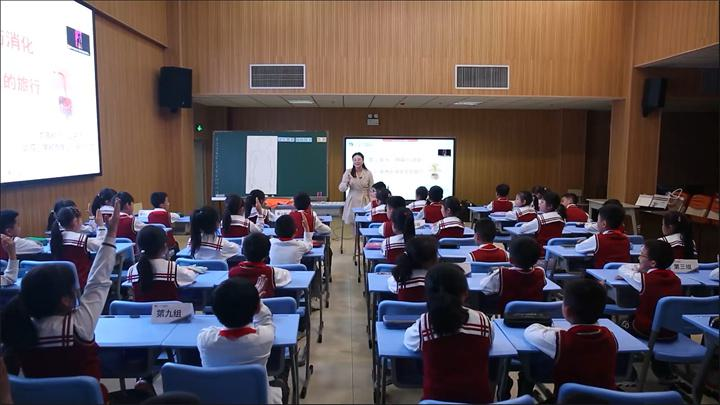hands-up: (30, 195, 119, 347), (193, 273, 285, 359), (217, 190, 264, 232), (271, 215, 308, 268)
listen: (415, 268, 501, 372), (530, 271, 612, 368), (488, 228, 550, 293), (137, 232, 199, 293), (623, 245, 680, 307), (572, 201, 628, 260), (373, 206, 419, 259)
